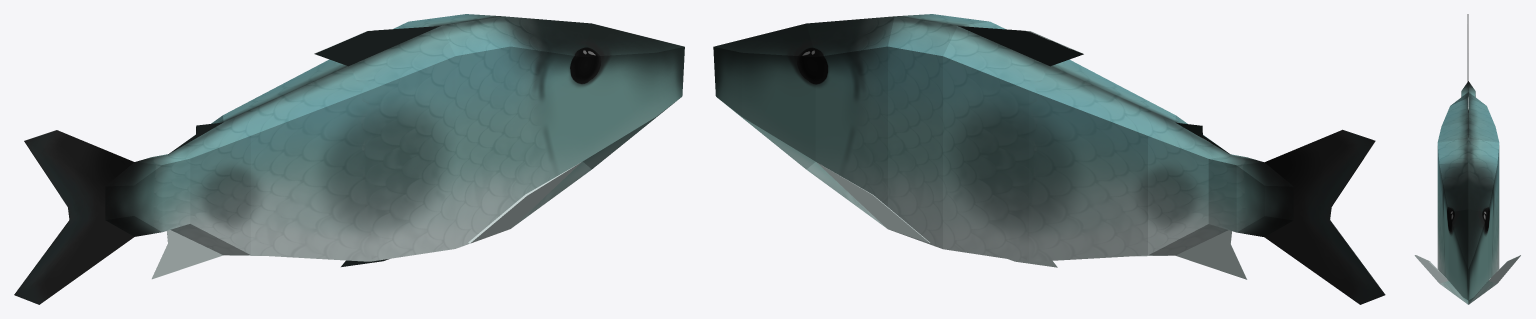
The model's file is Piapara.fbx.
3 renders of one model, left to right at view 1: azimuth 30°, elevation 25°; view 2: azimuth 150°, elevation 25°; view 3: azimuth 270°, elevation 25°, orthographic. The views are drawn at different scales.
Parts seen in each view (by area): view 1: Cube; view 2: Cube; view 3: Cube.
Boxes of the visible parts, left/top/right/bottom form: Cube: left=14, top=14, right=684, bottom=304; Cube: left=713, top=14, right=1385, bottom=304; Cube: left=1414, top=14, right=1520, bottom=304.
Bounding box in the file's own units: 932 × 311 × 197.
